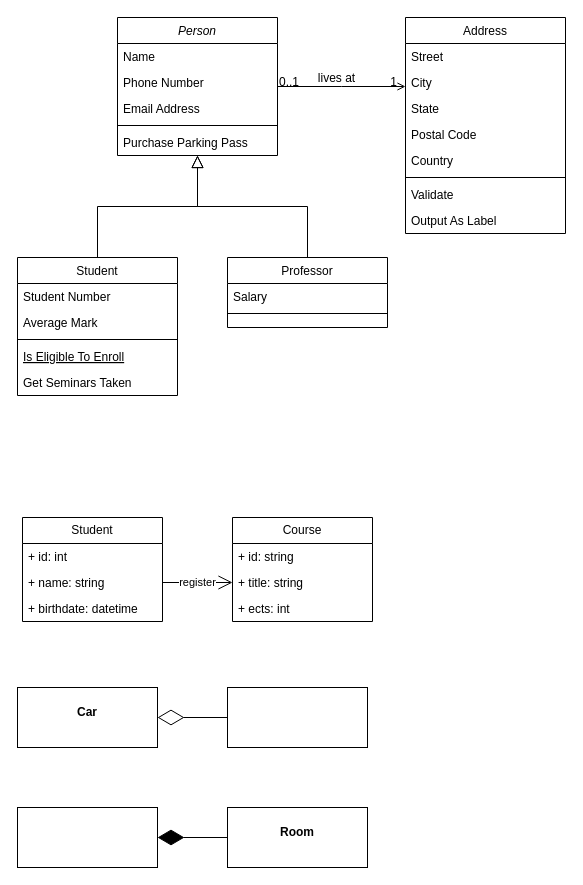
This 583x885 diagram has some shape labels left out. Each missing label, with the centre of its shape:
"Building" goes at pixel 87 837.
"Wheel" goes at pixel 297 717.
